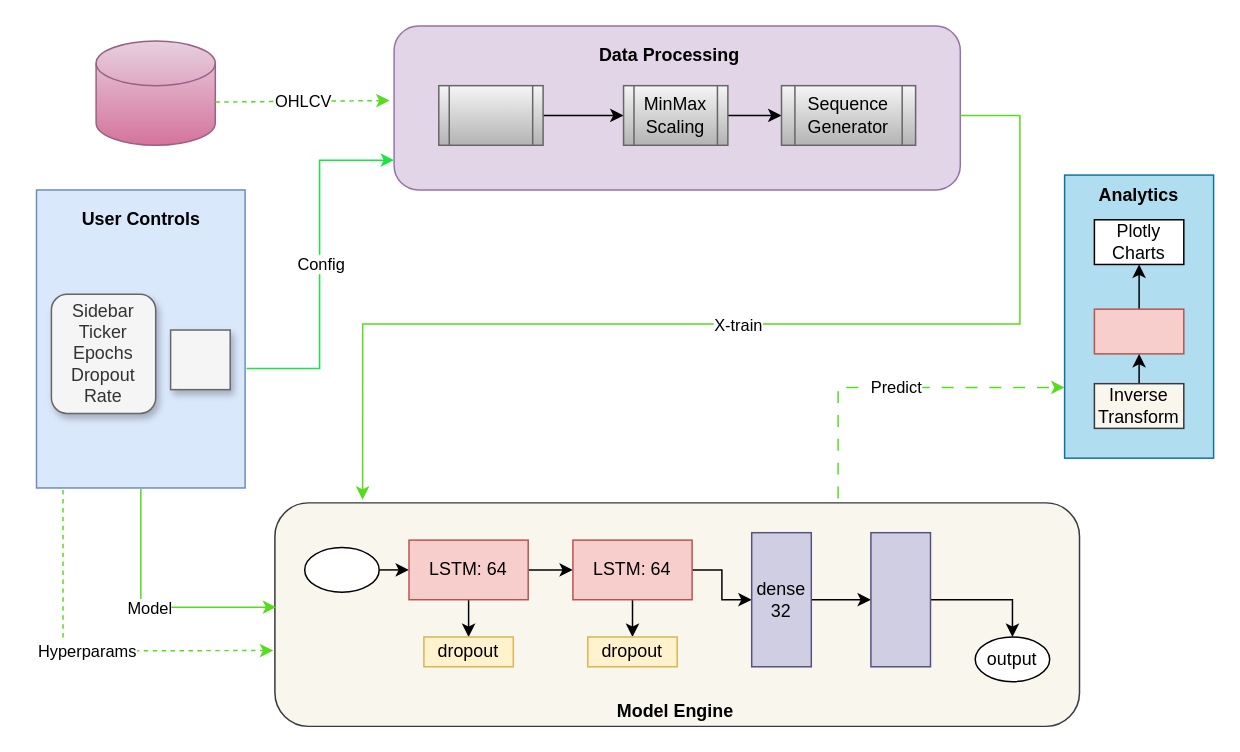
Image size: 1240x752. Some labels were removed from this diagram. Here are the shapes that lost their labels. From the top down, the centre of each, then its label:
pixel 155 92: yFinance
pixel 490 114: Data Cleaning
pixel 1138 331: RMSE MAE
pixel 201 361: User Input
pixel 341 569: input
pixel 900 599: dense 16
